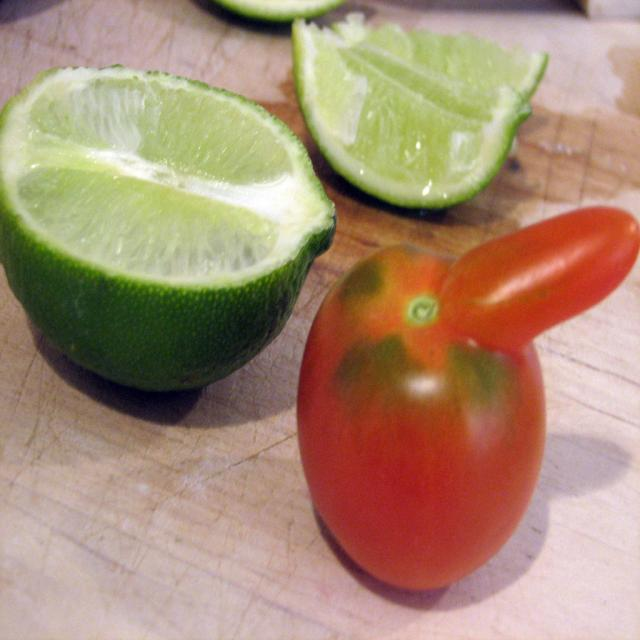Lemon: (2, 68, 335, 394), (292, 20, 548, 210)
